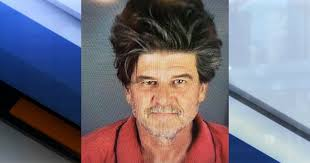middle_eastern_male: (120, 34, 211, 136)
